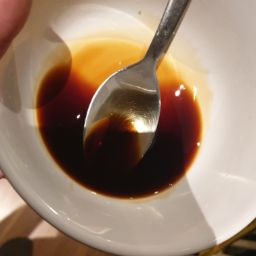Soy Sauce: (18, 39, 246, 214), (45, 57, 196, 193), (50, 65, 183, 190)
